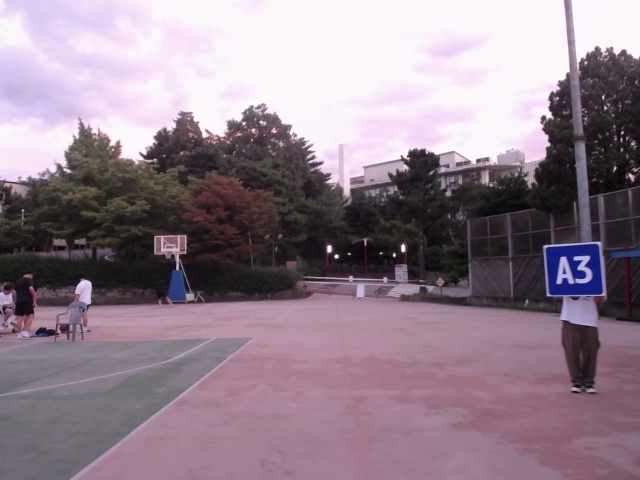delivery_a3: (545, 244, 606, 296)
